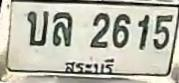1: (137, 13, 148, 48)
2: (89, 12, 109, 47)
5: (152, 13, 172, 48)
6: (112, 12, 130, 46)
A26: (25, 9, 48, 44)
A36: (52, 10, 72, 45)
SRI: (62, 56, 116, 75)
